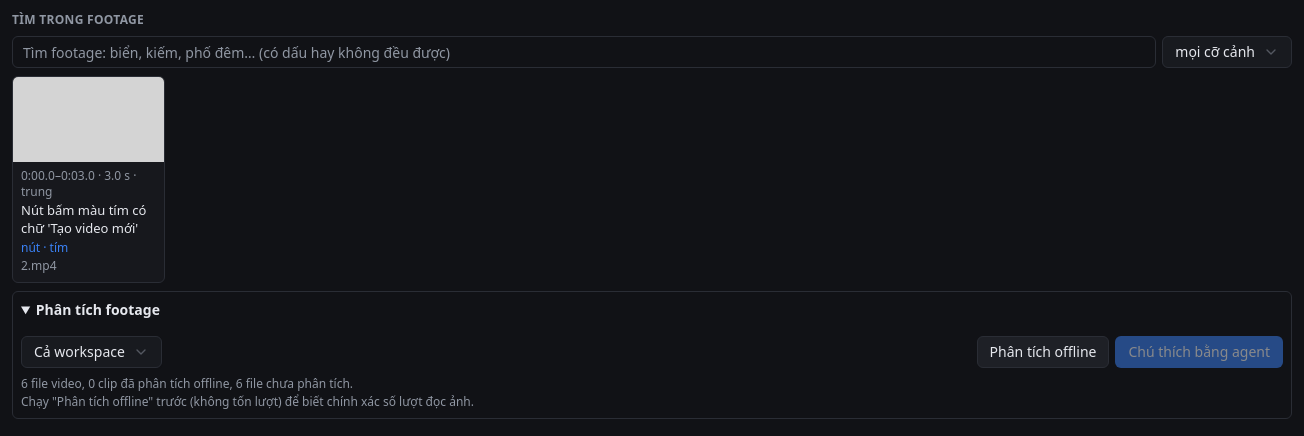
Test: broll search › searches 250 ms after typing stops
Replace the text in the search field labelled "Tìm footage" with "biển": (584, 52) [12,36,1156,68]
Wait 300 ms
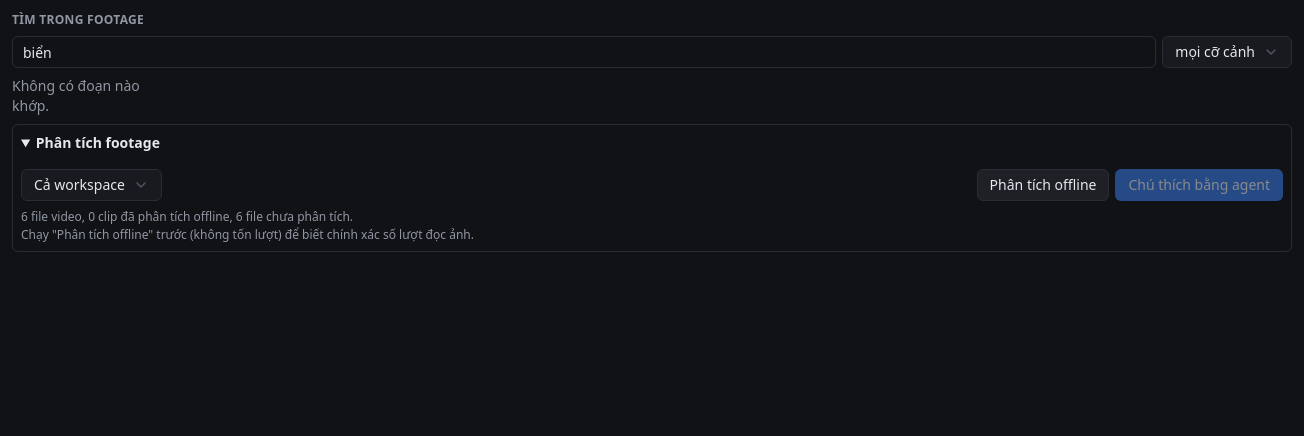
Result: the text "Không có đoạn nào khớp." is shown at [12,76,140,115]
